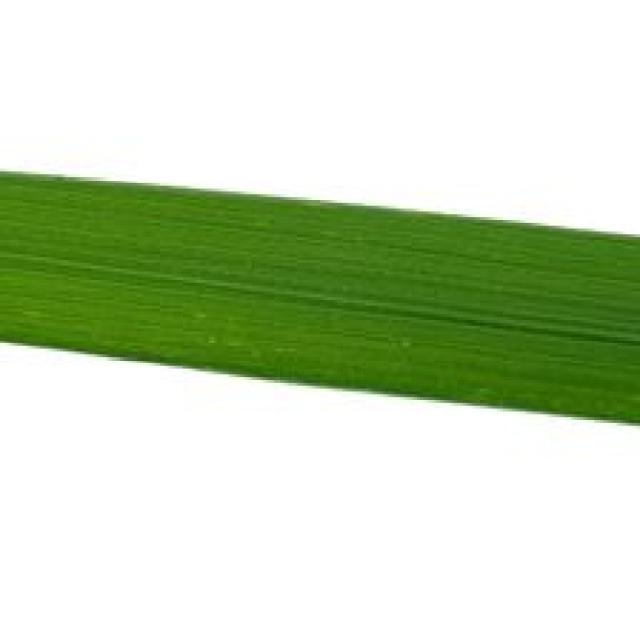Rice___Healthy_Rice_Plant: (0, 169, 637, 429)
